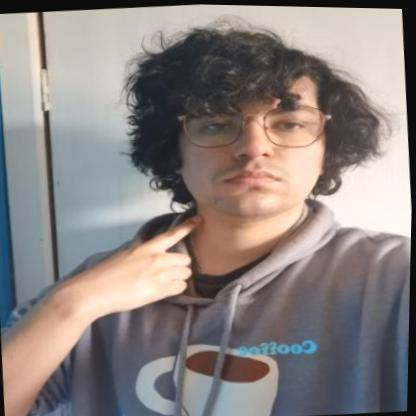Q: (66, 209, 213, 316)
